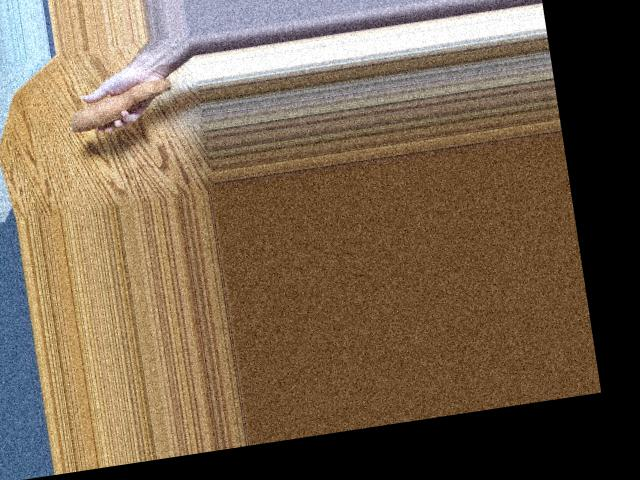sweet_potato: (65, 75, 187, 137)
